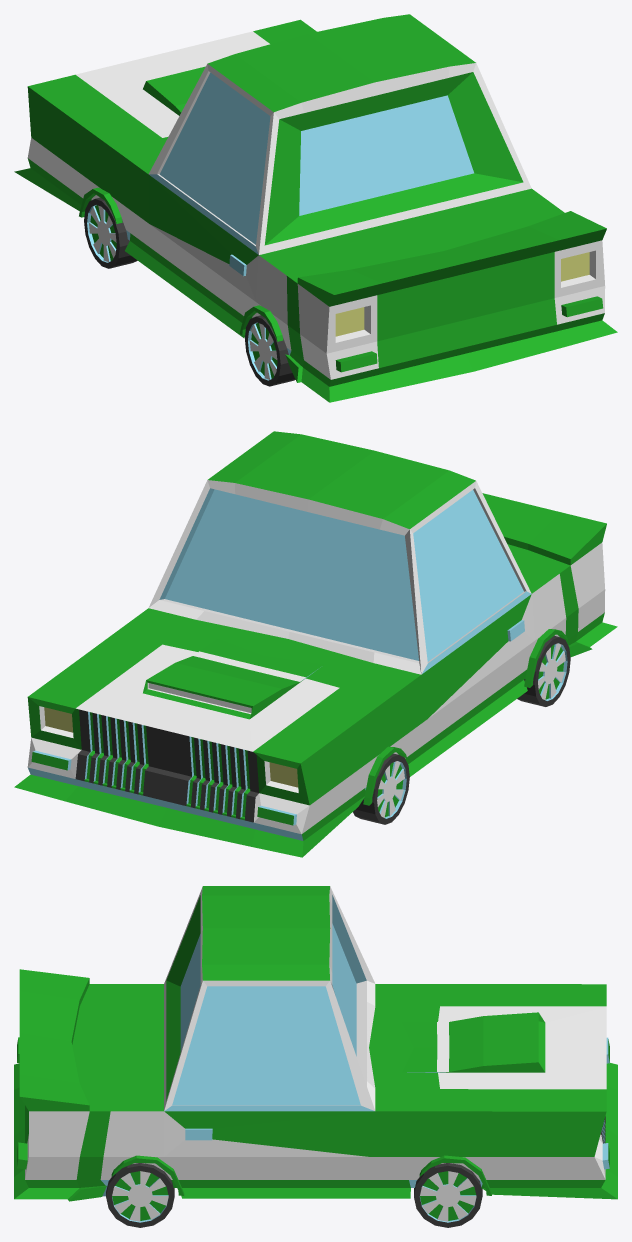
Rendered from car_green.fbx.
3 renders of one model, top to bottom at view 1: azimuth 30°, elevation 25°; view 2: azimuth 150°, elevation 25°; view 3: azimuth 270°, elevation 25°, orthographic. The views are drawn at different scales.
Visible parts, largest first — view 1: car; view 2: car; view 3: car.
Boxes of the visible parts, bbox=[...] form: car: bbox=[14, 14, 617, 402]; car: bbox=[14, 431, 617, 857]; car: bbox=[14, 886, 617, 1227].
Size of the model in its own units: 143 by 112 by 264.
